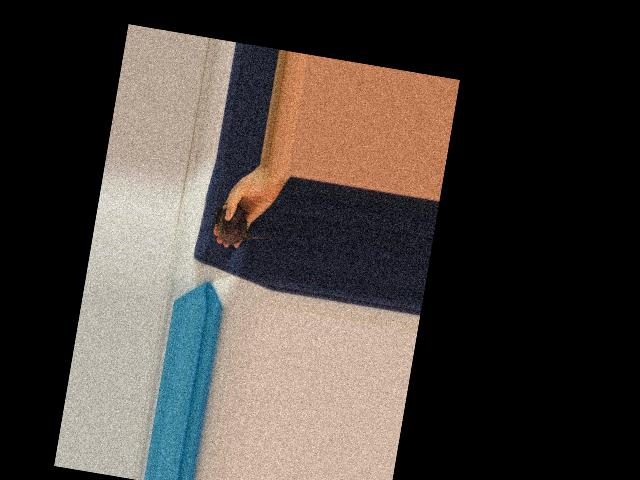beet: (210, 201, 273, 250)
